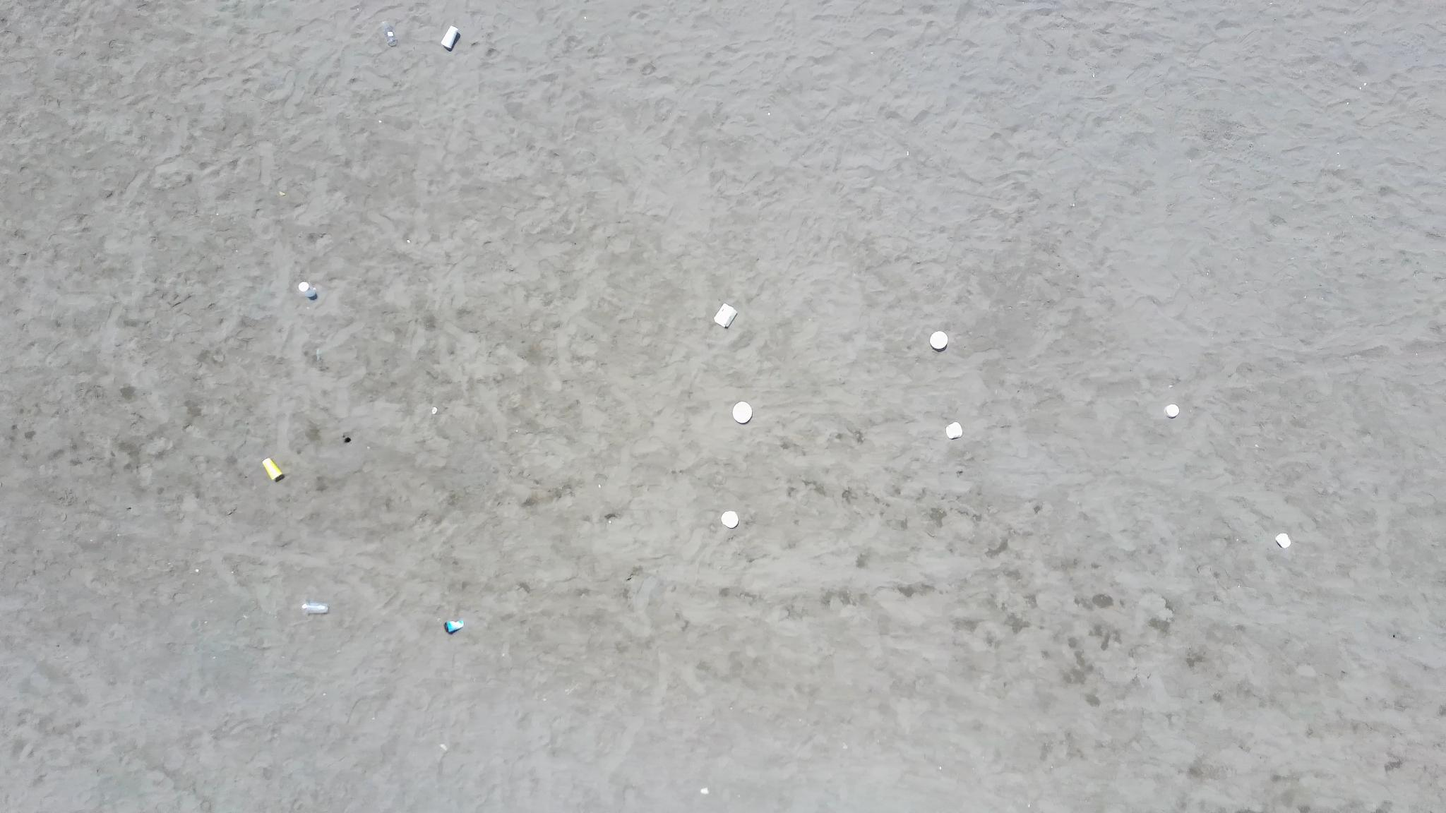Garbage: (713, 303, 737, 327), (261, 459, 284, 481), (441, 26, 458, 51), (733, 401, 752, 423), (301, 601, 328, 614), (298, 281, 317, 299), (930, 331, 947, 350), (721, 510, 738, 528), (383, 23, 396, 45), (946, 422, 962, 438), (444, 619, 462, 633), (1275, 532, 1291, 547), (1164, 404, 1179, 418), (438, 743, 446, 752), (343, 434, 351, 443), (430, 406, 437, 414), (700, 786, 708, 793)
